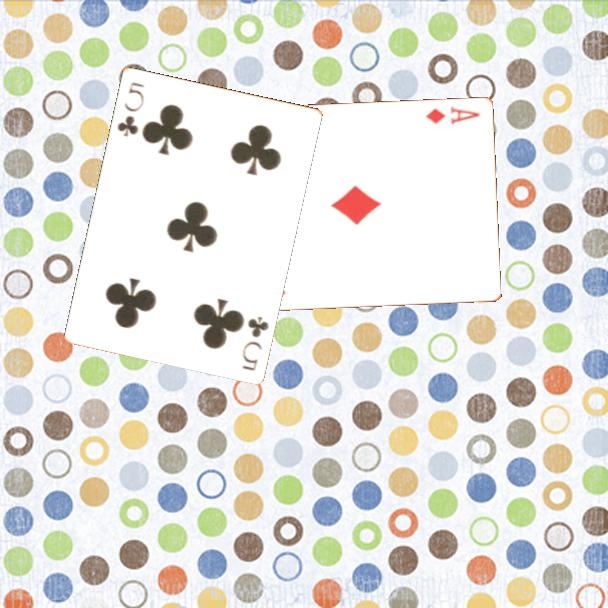c05: (113, 78, 147, 139), (239, 312, 272, 373)
d01: (422, 103, 483, 128)
